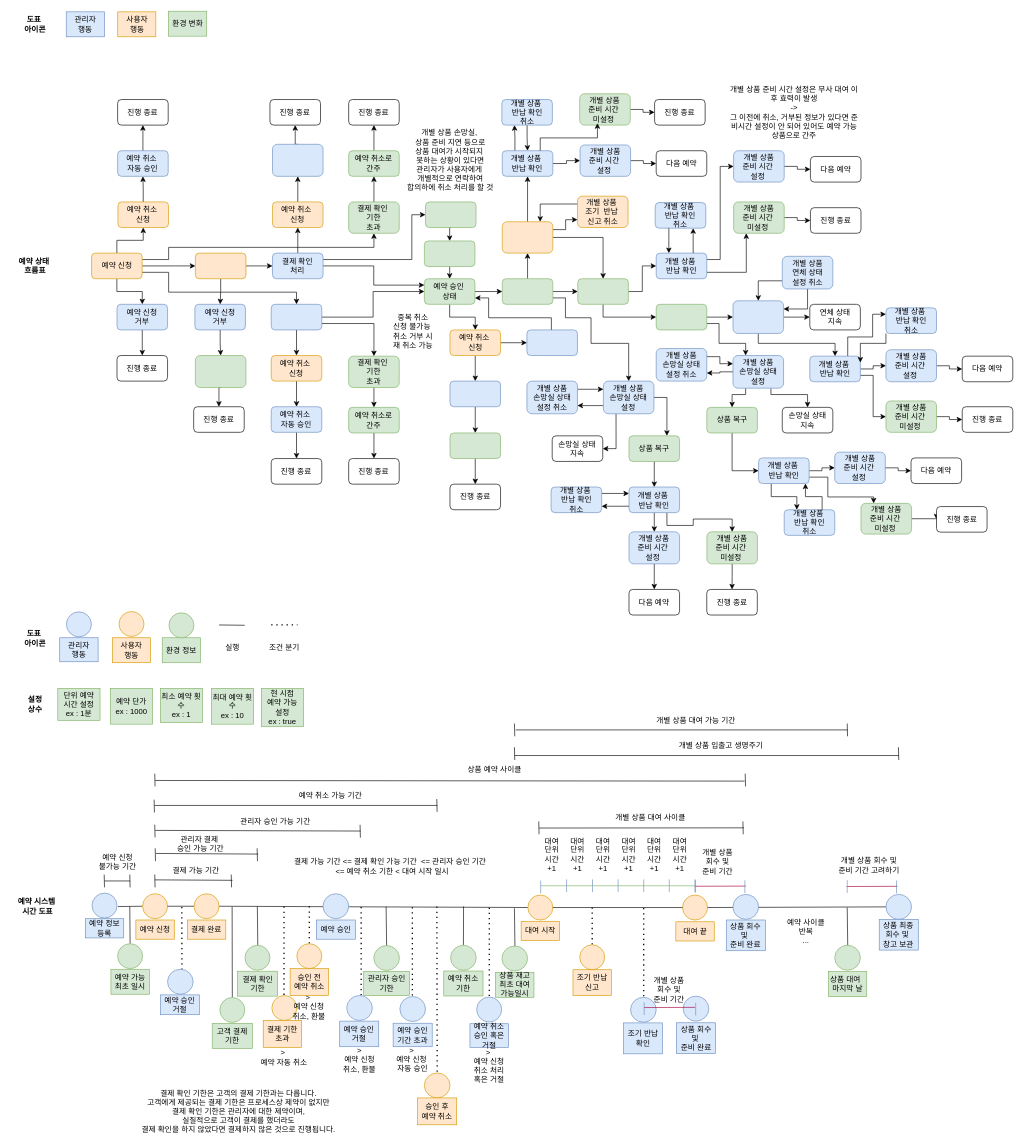
Image size: 1024x1148. Some labels were removed from this diagram. Each missing label, with the centre of its shape:
"개별 상품 연체 상태 설정" belongs at [758,316].
"개별 상품 조기 반납 신고" belongs at [527,237].
"사용자 결제 완료" belongs at [220,265].
"상품 대여일 시작" belongs at [527,291].
"상품 반납 미확인" belongs at [681,317].
"상품 반납일 도래" belongs at [602,291].
"예약 승인 기한 초과" belongs at [450,214].
"예약 신청 승인" belongs at [296,317].
"예약 취소 거부" belongs at [551,342].
"예약 취소 승인" belongs at [475,393].
"예약 취소 자동 승인 및 환불 의무" belongs at [297,160].
"예약 취소로 간주 및 환불 의무" belongs at [220,371].
"자동 승인으로 간주" belongs at [449,253].
"환불 의무" belongs at [475,445].
